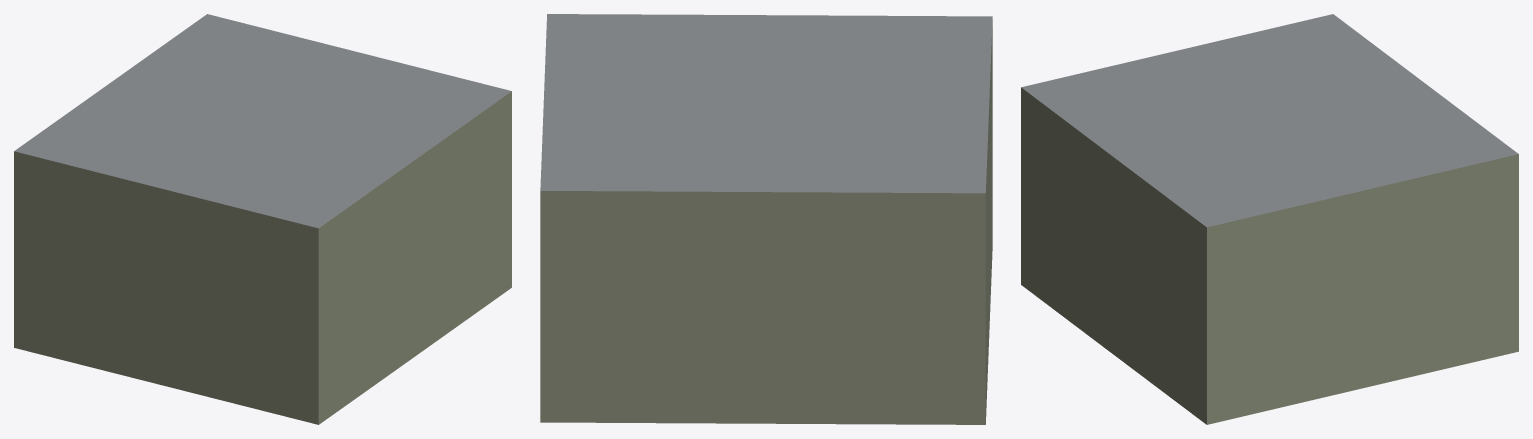
The model's file is nyc-1024684-0.glb.
The picture shows the model from 3 angles, left to right: view 1: azimuth 30°, elevation 25°; view 2: azimuth 150°, elevation 25°; view 3: azimuth 270°, elevation 25°; orthographic projection. The views are drawn at different scales.
Visible parts, largest first — view 1: nyc-1024684-0; view 2: nyc-1024684-0; view 3: nyc-1024684-0.
Boxes of the visible parts, <box> form: nyc-1024684-0: <box>14,14,511,424</box>; nyc-1024684-0: <box>540,14,992,424</box>; nyc-1024684-0: <box>1021,14,1518,424</box>.
Size of the model in its own units: 42.44 by 18.32 by 41.83.
